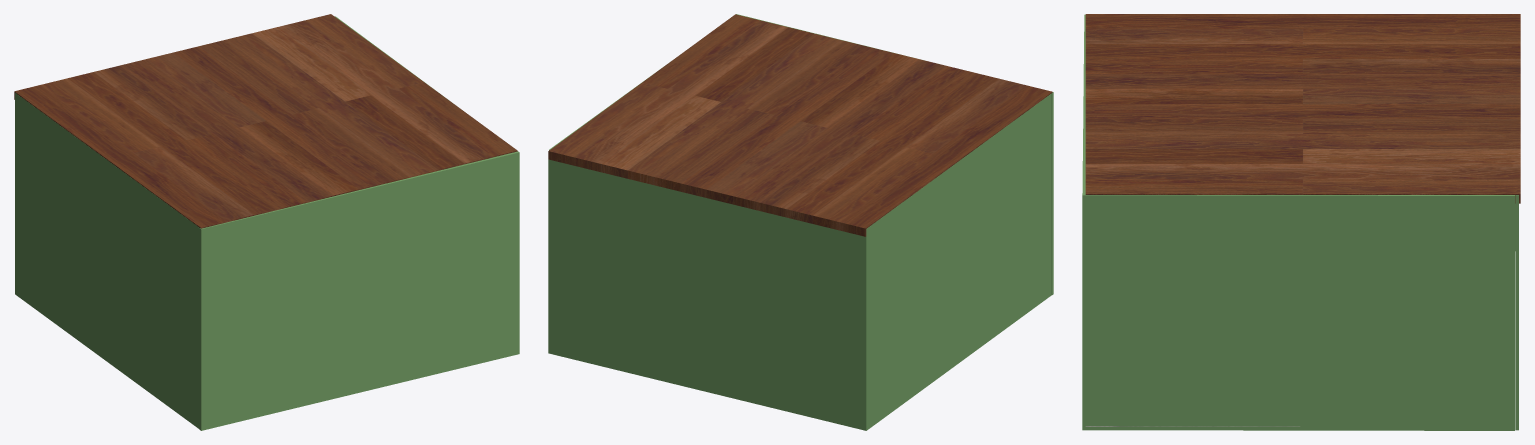
Rendered from Oficina.glb.
The picture shows the model from 3 angles, left to right: view 1: azimuth 30°, elevation 25°; view 2: azimuth 150°, elevation 25°; view 3: azimuth 270°, elevation 25°; orthographic projection. The views are drawn at different scales.
Parts seen in each view (by area): view 1: Object_4.001, Object_8.004; view 2: Object_4.001, Object_8.004; view 3: Object_4.001, Object_8.004.
Part boxes in pixels (box(x1,y1,x2,y2)): Object_4.001: box(15, 16, 519, 430); Object_8.004: box(14, 14, 517, 228); Object_4.001: box(548, 14, 1053, 430); Object_8.004: box(548, 14, 1052, 236); Object_4.001: box(1082, 14, 1518, 430); Object_8.004: box(1085, 14, 1520, 203).
Bounding box in the file's own units: 4.09 × 2.48 × 4.18.
Materials: 72 (68 with a texture image).
